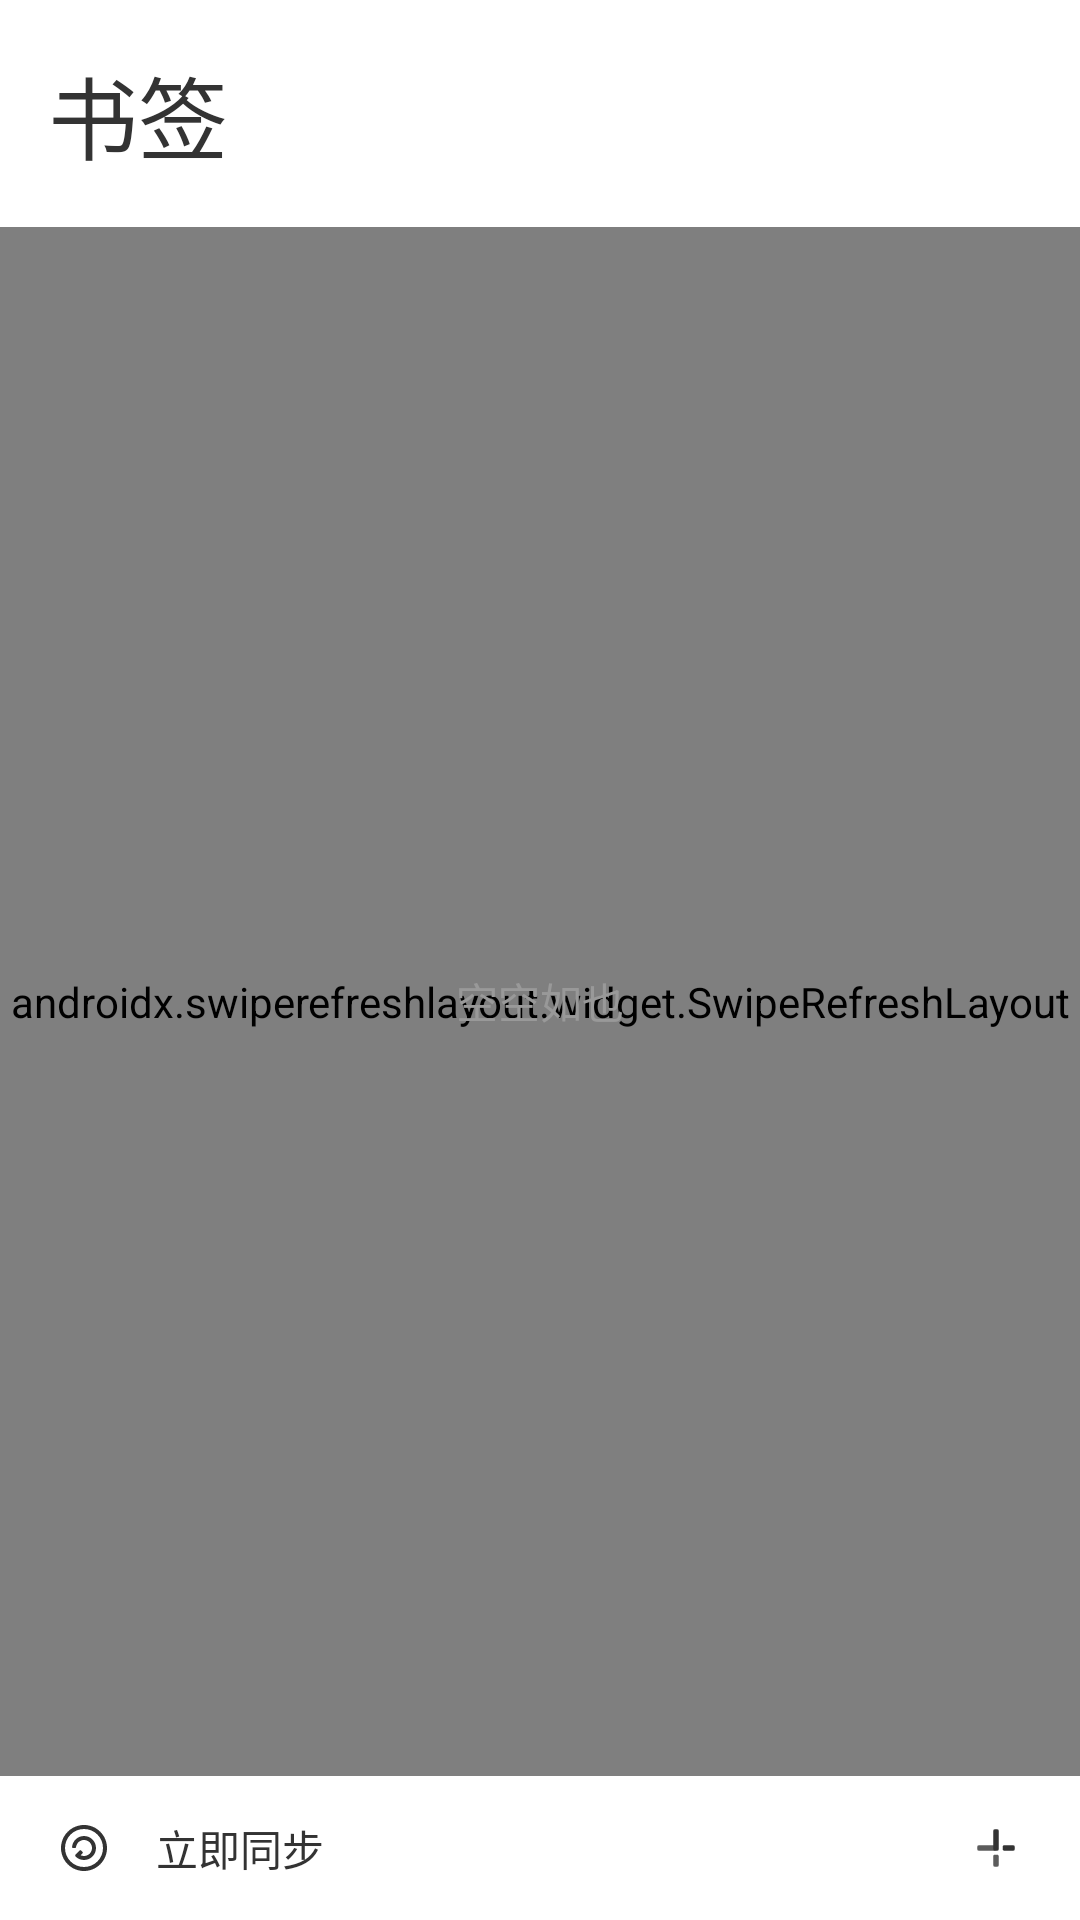

Locate icon controls on the screen. Image size 1080x1920, boxes as (left=x1, top=y1, right=x2, bottom=y2).
plus: (left=977, top=1829, right=1015, bottom=1867)
